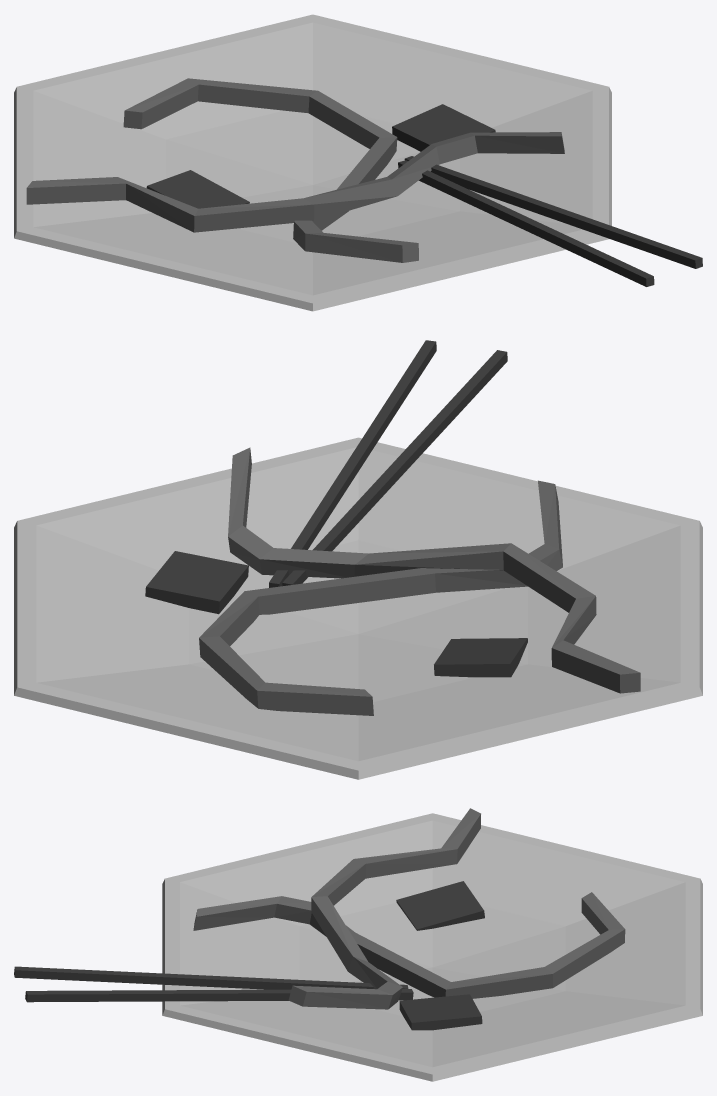
Rendered from plate_noodles_B.FBX.
The picture shows the model from 3 angles, top to bottom: view 1: azimuth 30°, elevation 25°; view 2: azimuth 150°, elevation 25°; view 3: azimuth 270°, elevation 25°; orthographic projection. The views are drawn at different scales.
Parts seen in each view (by area): view 1: plate_noodles_B; view 2: plate_noodles_B; view 3: plate_noodles_B.
Boxes of the visible parts, <box> form: plate_noodles_B: <box>14,14,702,311</box>; plate_noodles_B: <box>14,340,702,779</box>; plate_noodles_B: <box>14,808,702,1081</box>.
Bounding box in the file's own units: 29.81 × 3.73 × 32.91.
